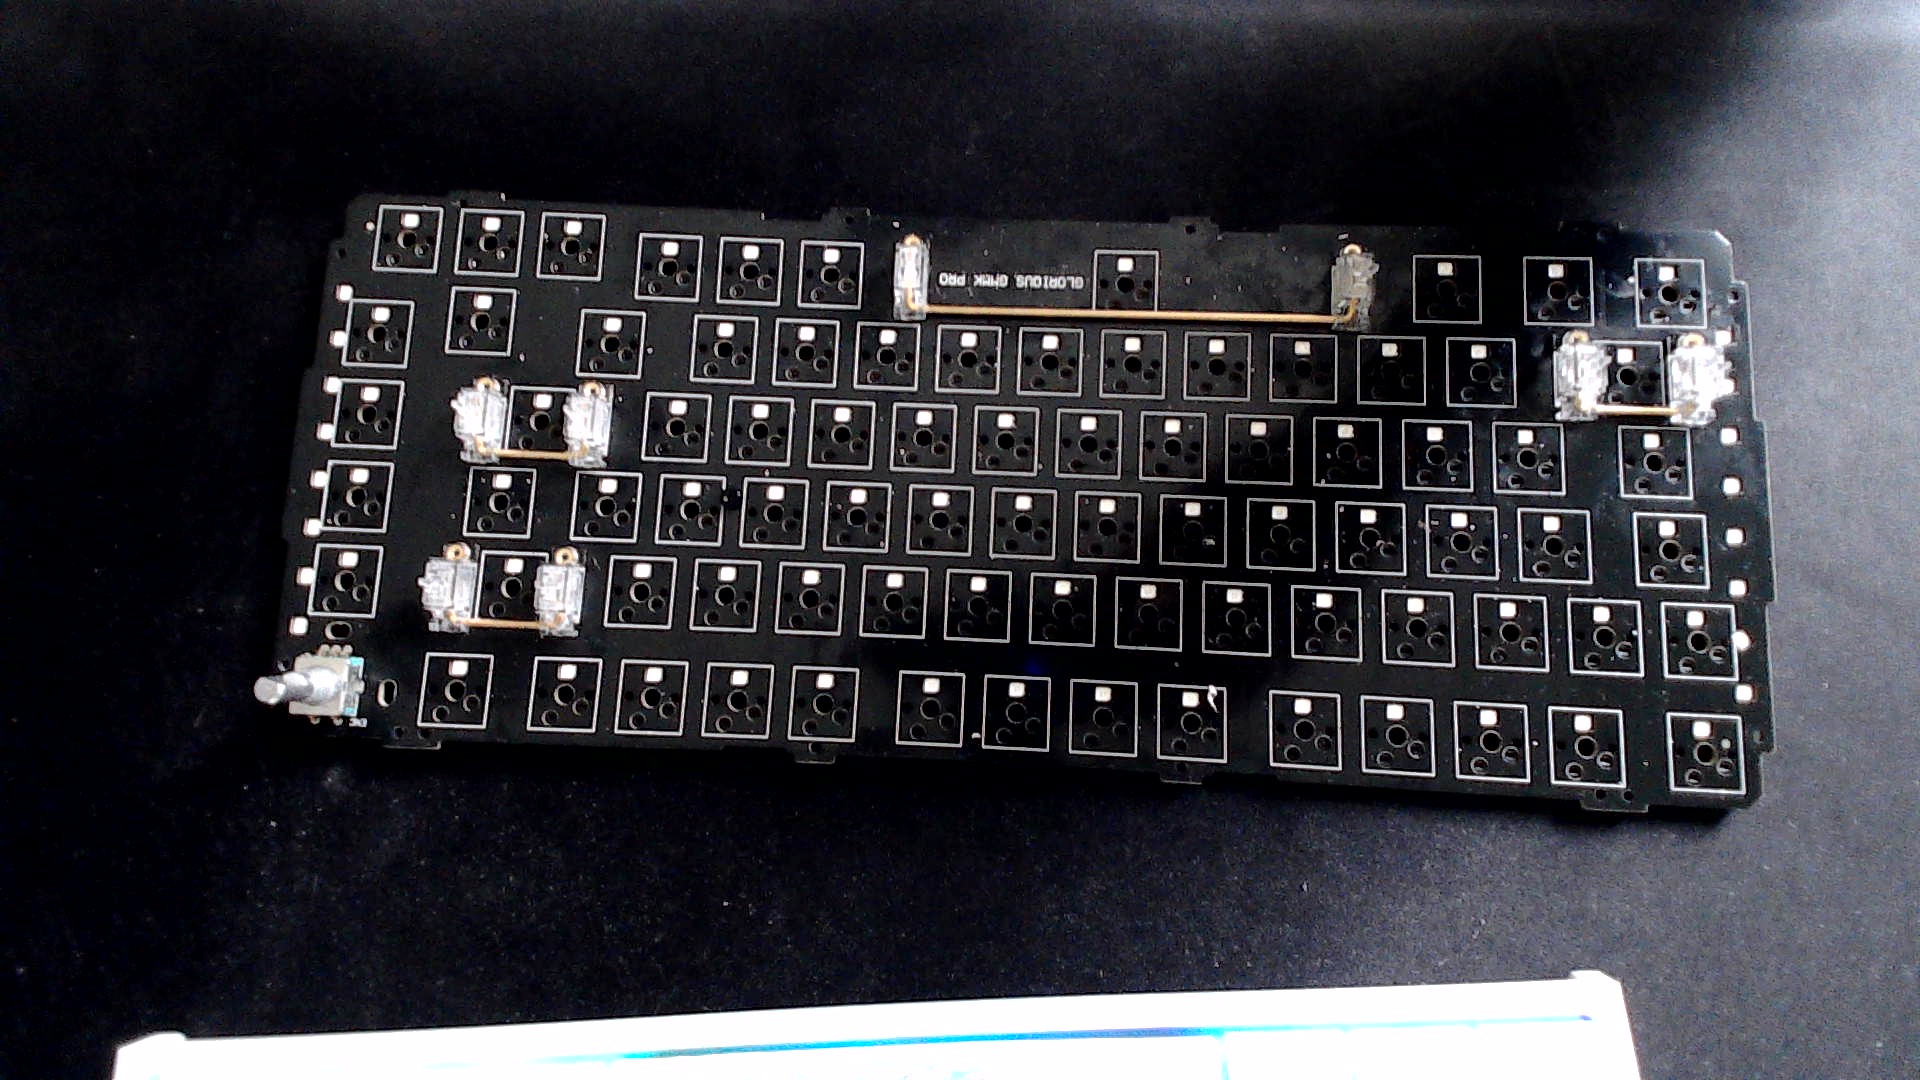pcb: (212, 141, 1811, 841)
